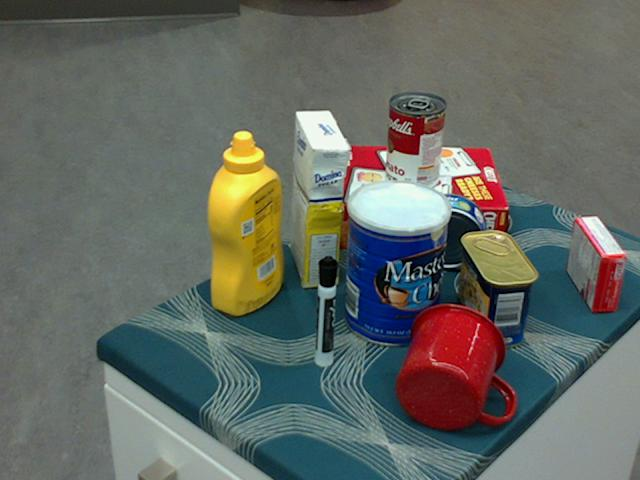cracker_box: (324, 146, 508, 251)
gelatin_box: (566, 216, 626, 312)
large_marker: (314, 255, 336, 368)
master_chef_can: (344, 179, 452, 347)
mug: (396, 302, 513, 430)
mustard_bottle: (206, 131, 284, 316)
potted_meat_can: (457, 230, 539, 347)
sugar_box: (289, 111, 347, 290)
tomato_soup_can: (386, 93, 446, 193)
tuna_fish_can: (411, 192, 486, 268)
